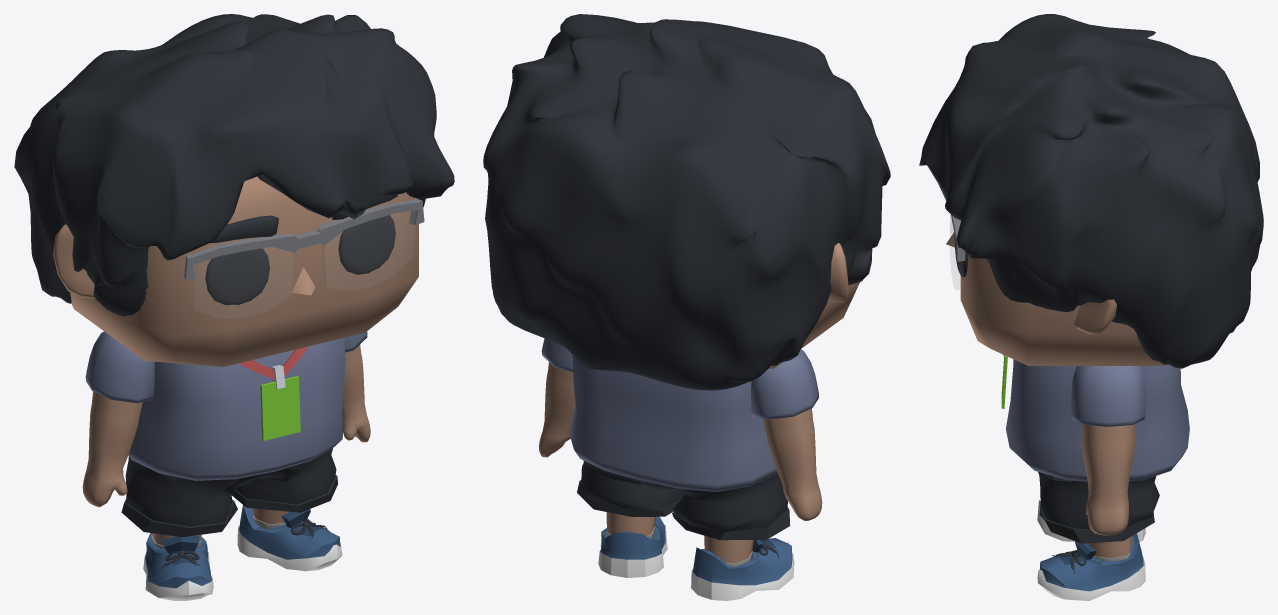
File: Devin.gltf
3 renders of one model, left to right at view 1: azimuth 30°, elevation 25°; view 2: azimuth 150°, elevation 25°; view 3: azimuth 270°, elevation 25°, orthographic. The views are drawn at different scales.
Visible parts, largest first — view 1: Devin; view 2: Devin; view 3: Devin.
Boxes of the visible parts, <box> form: Devin: <box>14,14,454,600</box>; Devin: <box>483,14,890,600</box>; Devin: <box>919,14,1263,600</box>.
Size of the model in its own units: 17.7 by 25.83 by 15.71.
